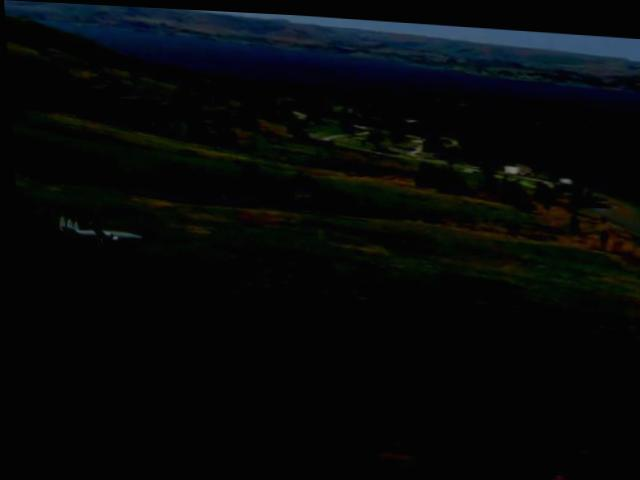iha: (51, 213, 149, 253)
